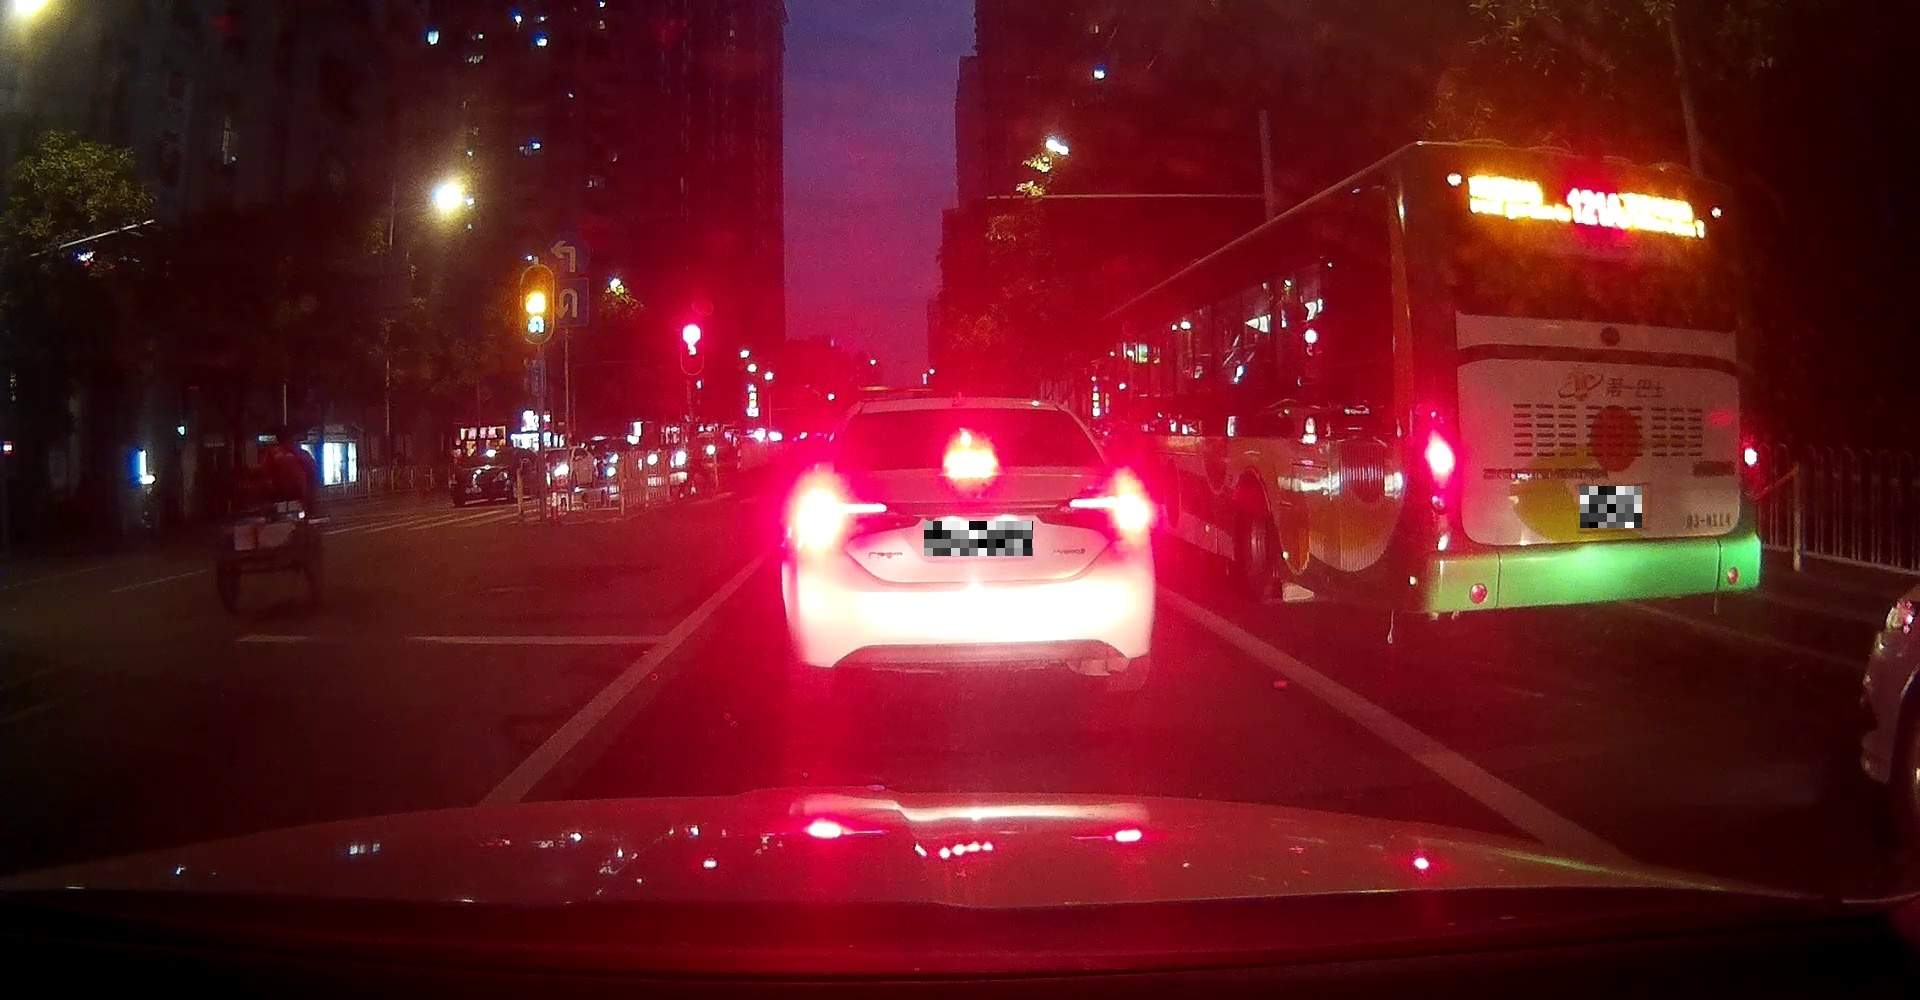L_light: (790, 489, 888, 546), (1423, 437, 1454, 476)
R_light: (1070, 481, 1148, 534), (1742, 447, 1757, 467)
T_light: (943, 451, 997, 473), (1570, 175, 1615, 189)
night-brake: (785, 398, 1154, 714)
night-no: (1411, 142, 1759, 662)
plate_1: (924, 522, 1032, 556)
plate_2: (1580, 486, 1642, 528)
